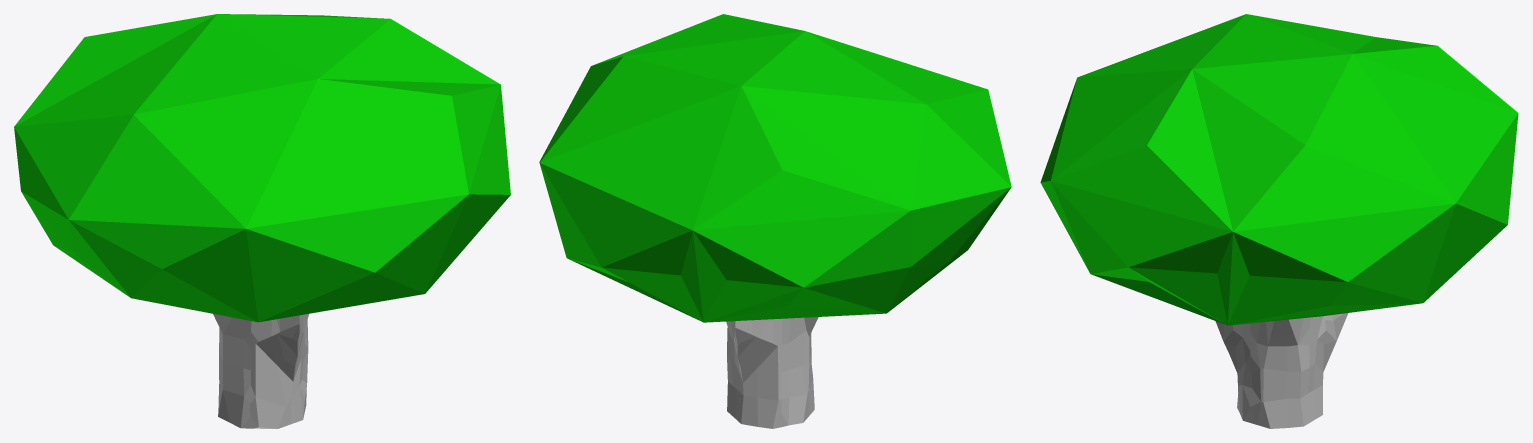
The picture shows the model from 3 angles, left to right: view 1: azimuth 30°, elevation 25°; view 2: azimuth 150°, elevation 25°; view 3: azimuth 270°, elevation 25°; orthographic projection. The views are drawn at different scales.
Parts seen in each view (by area): view 1: Cylinder; view 2: Cylinder; view 3: Cylinder.
Boxes of the visible parts, x1=… form: Cylinder: x1=14, y1=14, x2=510, y2=428; Cylinder: x1=539, y1=14, x2=1011, y2=428; Cylinder: x1=1040, y1=14, x2=1518, y2=428.
Bounding box in the file's own units: 0.5513 × 0.4465 × 0.5471.
